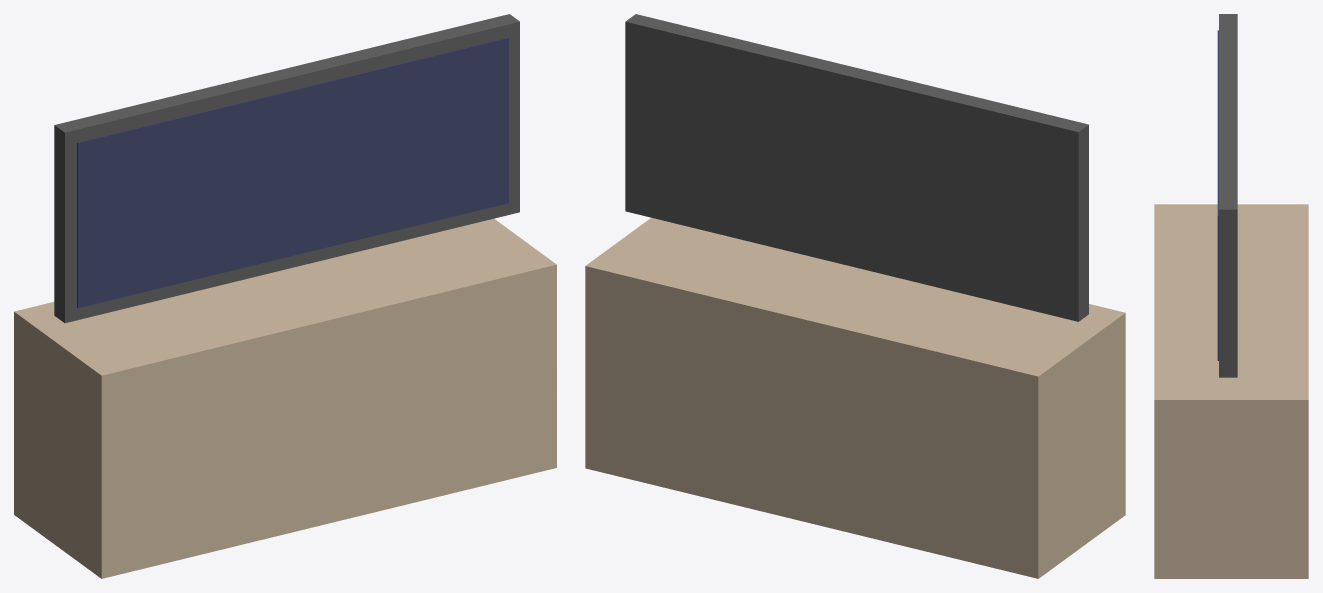
Rendered from tv_unit.glb.
The picture shows the model from 3 angles, left to right: view 1: azimuth 30°, elevation 25°; view 2: azimuth 150°, elevation 25°; view 3: azimuth 270°, elevation 25°; orthographic projection. The views are drawn at different scales.
Size of the model in its own units: 1.5 by 1.32 by 0.5.
